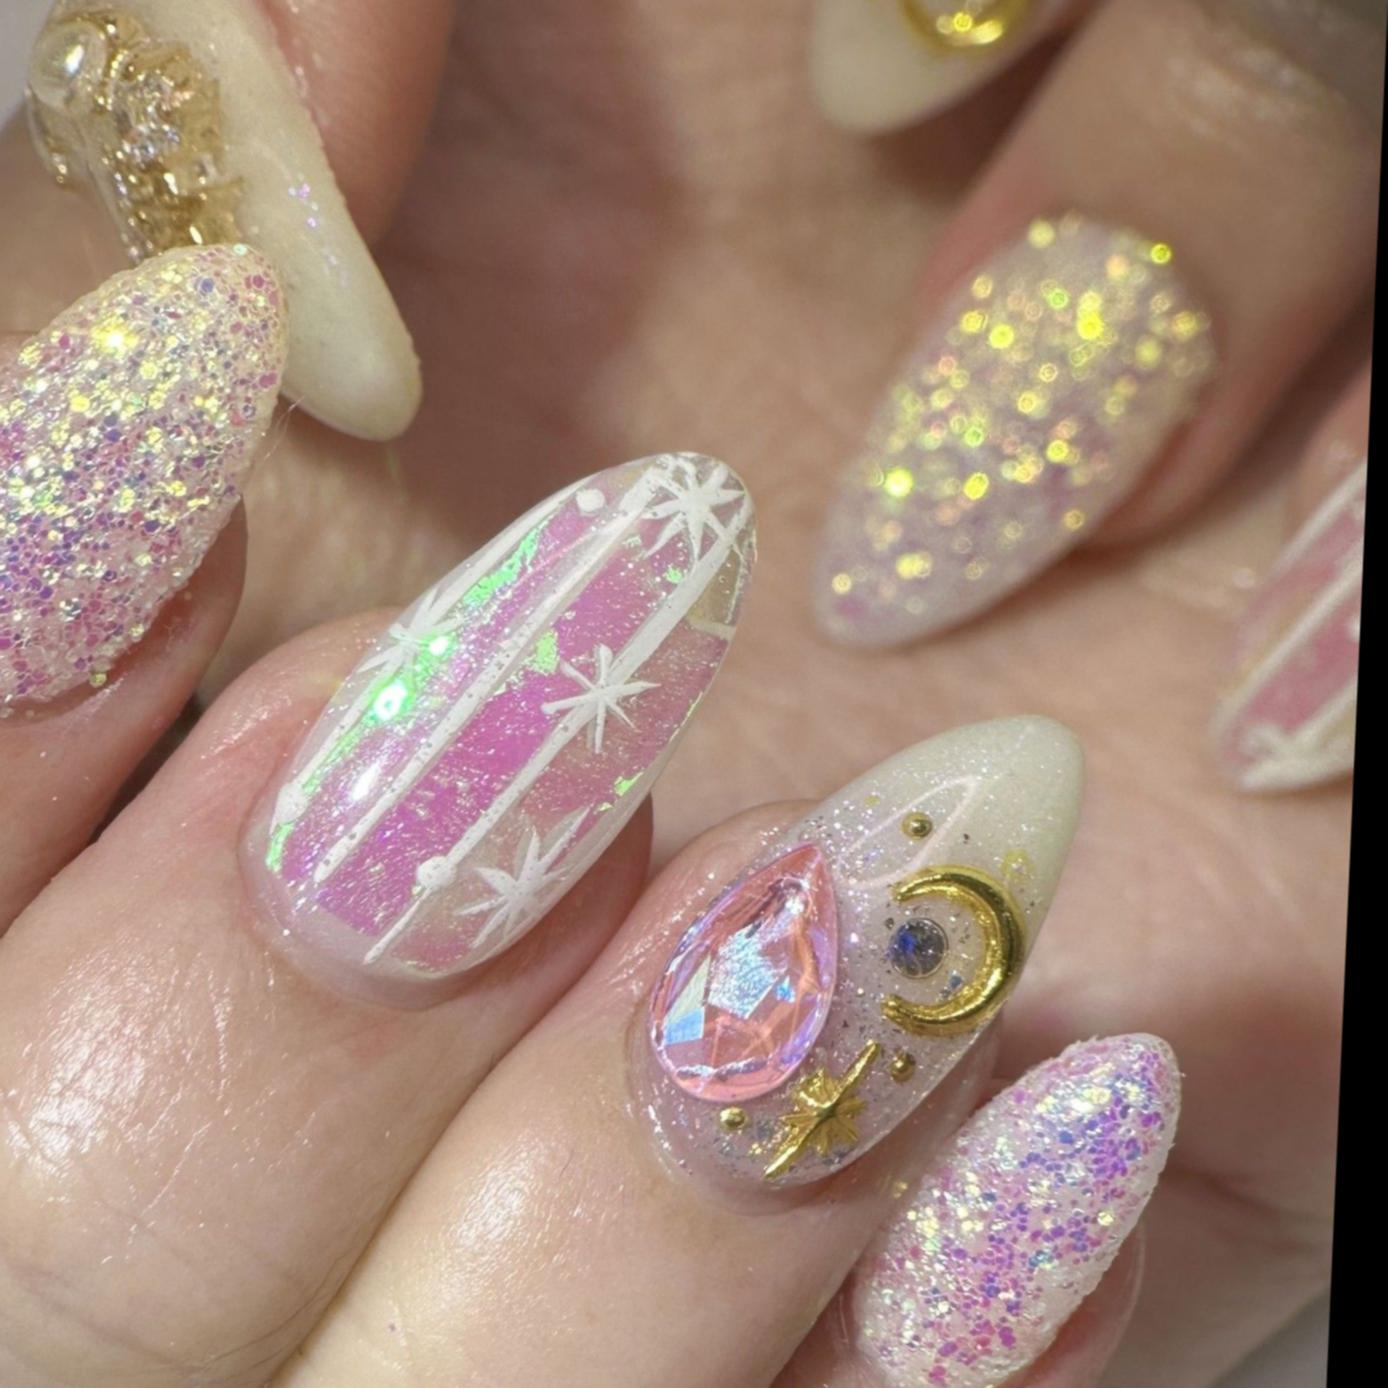nail: (230, 447, 764, 1008), (619, 711, 1091, 1214), (8, 0, 444, 444), (806, 203, 1229, 650), (0, 238, 296, 719), (843, 1030, 1190, 1388)
